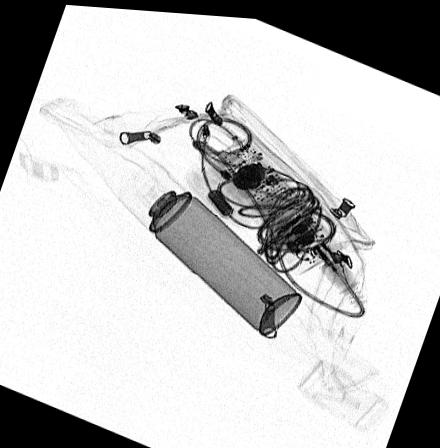Sprayer: (115, 155, 301, 332)
